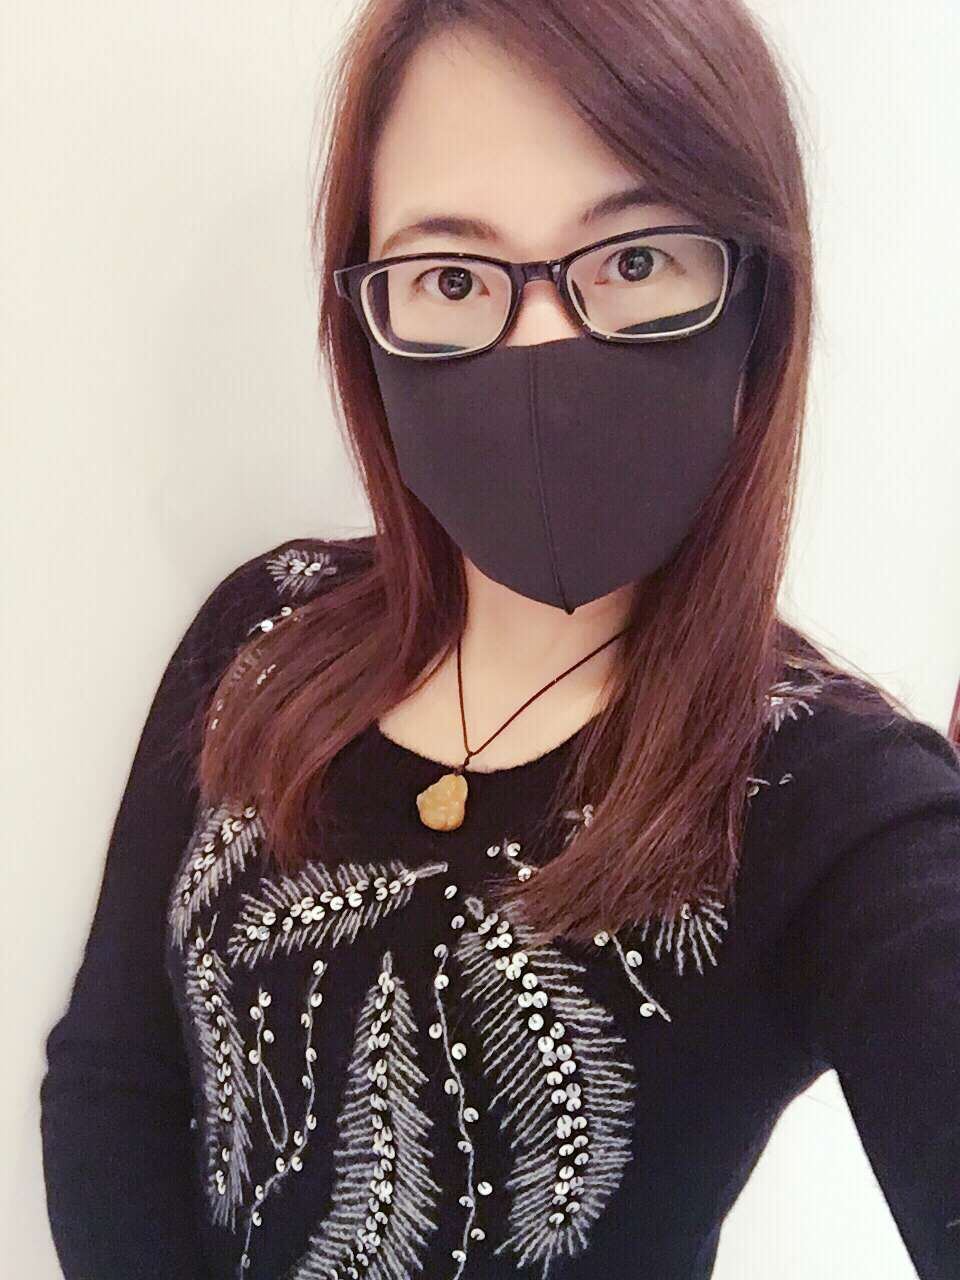face_mask: (364, 58, 739, 615)
